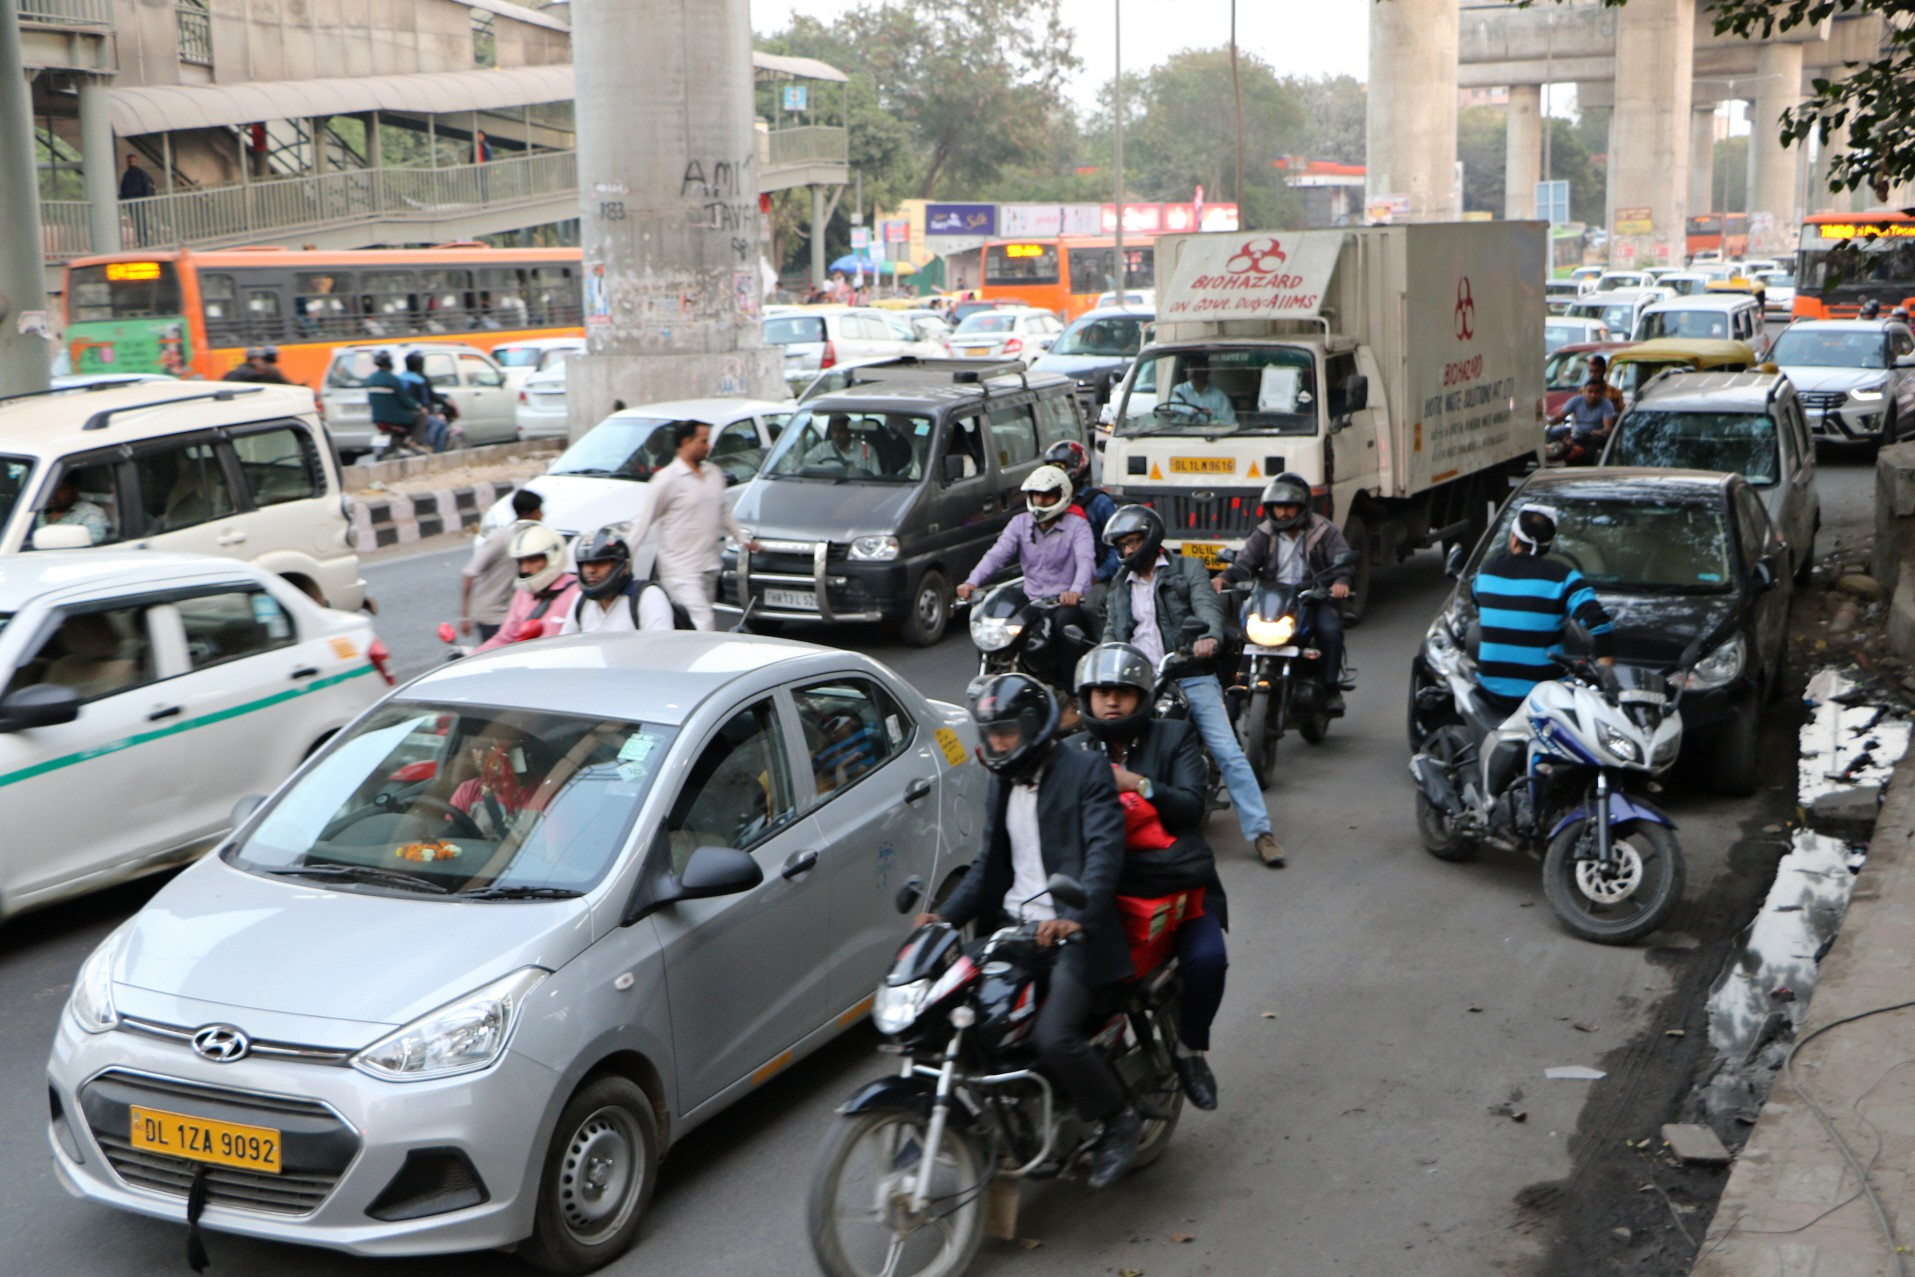Bike: (1392, 673, 1680, 981)
Car: (14, 582, 980, 1274)
Human: (952, 665, 1283, 1111), (1236, 475, 1340, 627)
Truck: (1098, 221, 1563, 496)
Van: (726, 361, 965, 652)
